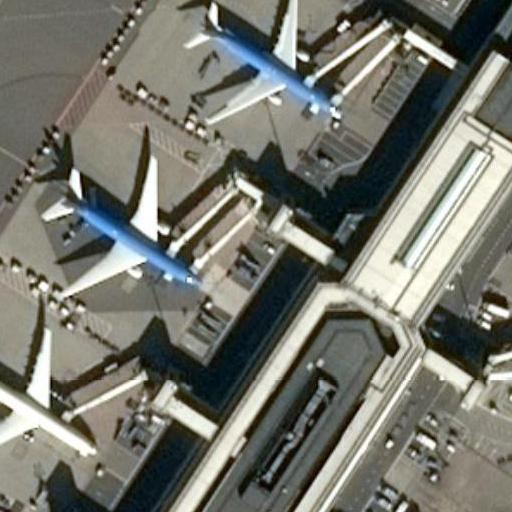Aircraft: (30, 145, 205, 304), (177, 0, 342, 129), (0, 317, 98, 467), (0, 499, 15, 512)
